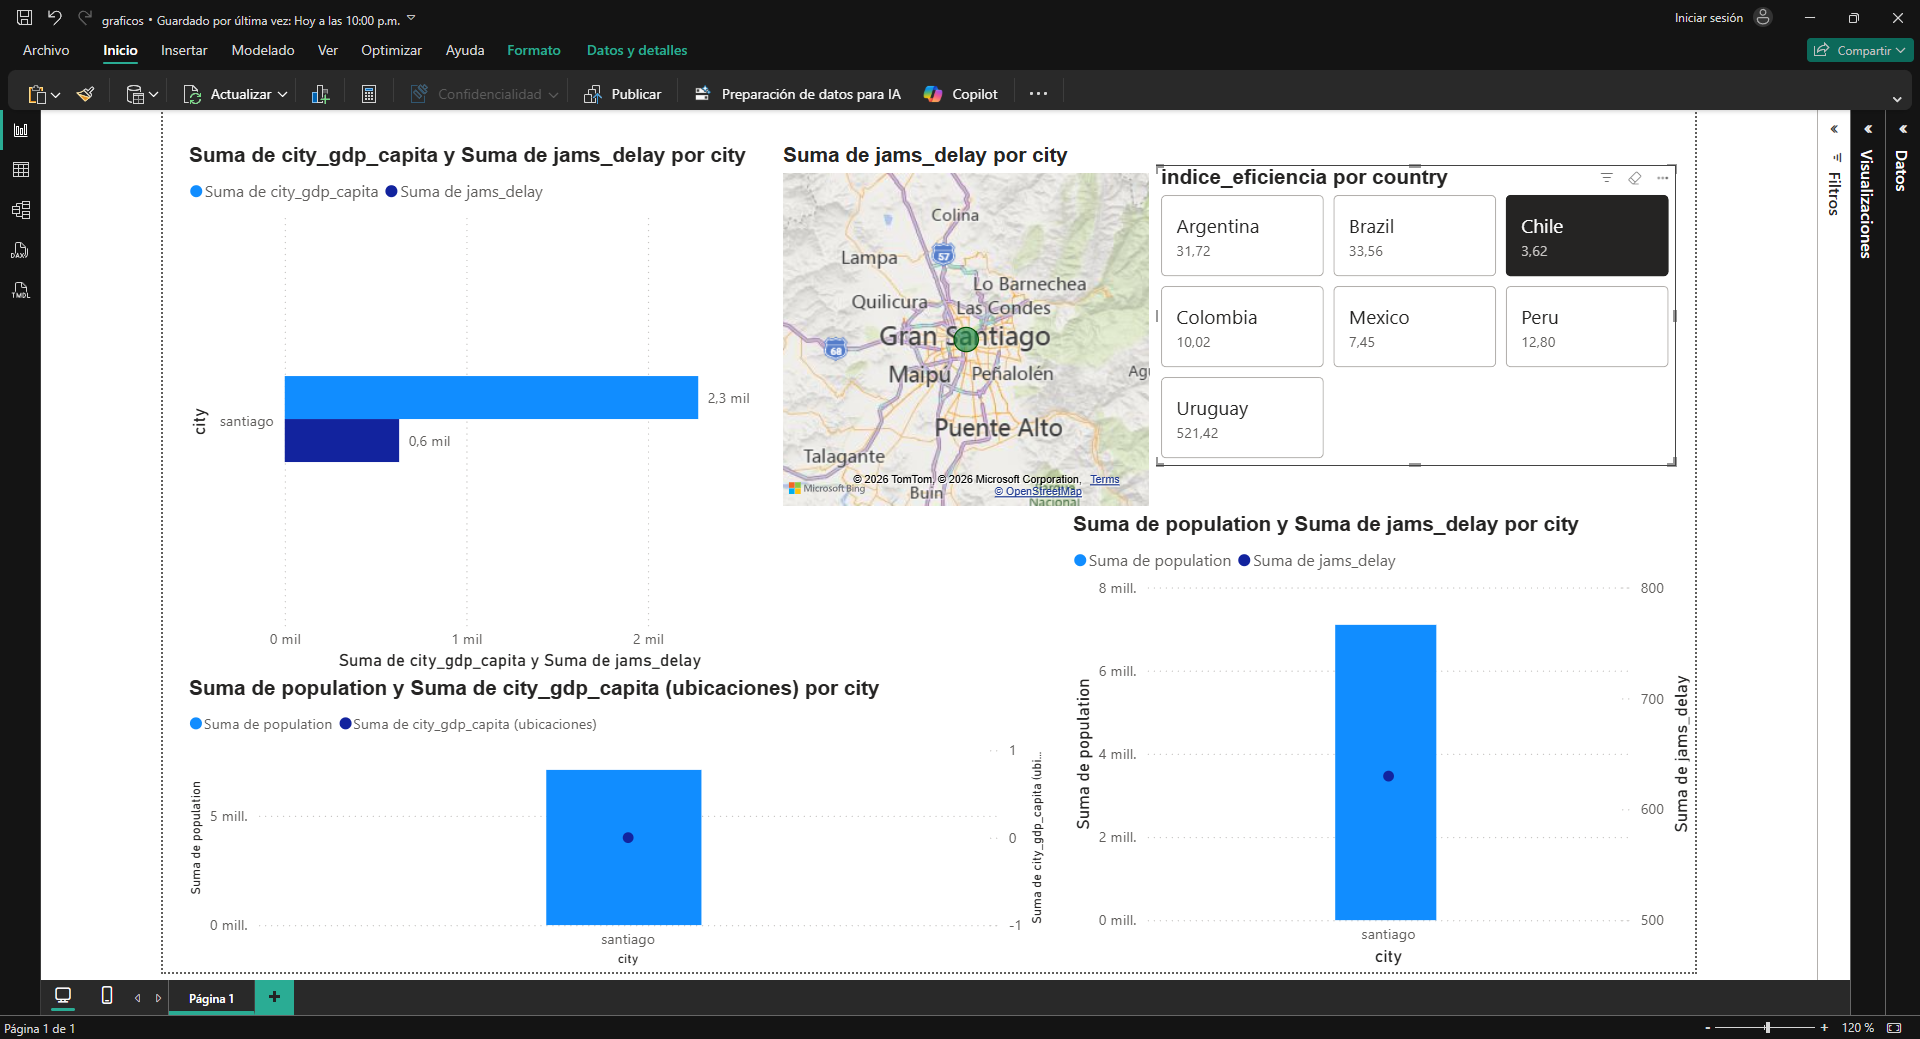

What the dashboard file says about the page in this screenshot:
{"tool":"powerbi","page":{"name":"Página 1","canvas":[1280,720],"ordinal":0},"visuals":[{"type":"clusteredBarChart","title":"Relación PIB vs. Congestión","fields":{"Category":["movilidad_economica_final.city"],"Y":["Sum(movilidad_economica_final.city_gdp_capita)","Sum(movilidad_economica_final.jams_delay)"]},"box":[22.4,70.7,432.1,401.9],"z":0},{"type":"lineStackedColumnComboChart","title":"Densidad Poblacional vs. Retrasos","fields":{"Category":["movilidad_economica_final.city"],"Y":["Sum(movilidad_economica_final.population)"],"Y2":["Sum(movilidad_economica_final.jams_delay)"]},"box":[800.4,400.2,463.2,320],"z":1000},{"type":"lineStackedColumnComboChart","title":"Relación PIB vs. Densidad poblacional","fields":{"Category":["movilidad_economica_final.city"],"Y2":["Sum(movilidad_economica_final.city_gdp_capita (ubicaciones))"],"Y":["Sum(movilidad_economica_final.population)"]},"box":[22.8,479.8,771.3,230.3],"z":2000},{"type":"advancedSlicerVisual","title":"Indice de ingresos/congestión","fields":{"Values":["movilidad_economica_final.country"],"Label":["movilidad_economica_final.indice_eficiencia"]},"box":[800.2,70.9,463.1,296.8],"z":3000},{"type":"map","fields":{"Category":["movilidad_economica_final.city"],"Size":["Sum(movilidad_economica_final.jams_delay)"]},"box":[461.4,70.9,332.7,392.2],"z":4000},{"type":"textbox","title":"Análisis de Impacto Económico: Movilidad Urbana 2024","box":[336.6,19.2,702.5,37.6],"z":5000}]}

Visuals, with their boxes on the page's 1280x720 design canvas (x1, y1, x2, y2). These are canvas units, not pixel positions in the 1920x1039 screenshot, which may show the page scaled, cropped or inside an application window:
"Relación PIB vs. Congestión" clusteredBarChart: 22 71 454 473
"Densidad Poblacional vs. Retrasos" lineStackedColumnComboChart: 800 400 1264 720
"Relación PIB vs. Densidad poblacional" lineStackedColumnComboChart: 23 480 794 710
"Indice de ingresos/congestión" advancedSlicerVisual: 800 71 1263 368
map - movilidad_economica_final.city x Sum(movilidad_economica_final.jams_delay): 461 71 794 463
"Análisis de Impacto Económico: Movilidad Urbana 2024" textbox: 337 19 1039 57
